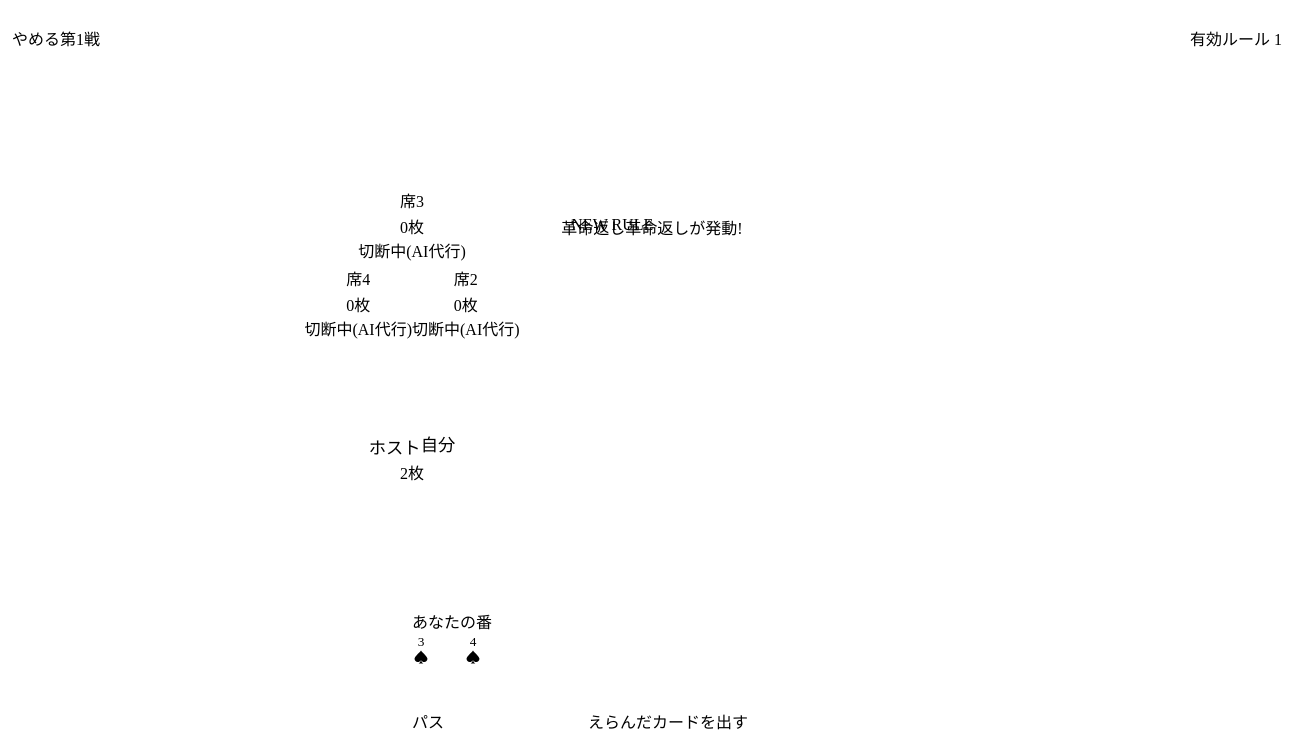
it: CX-06: 実ルール発動イベントの演出 › 新しいruleFiredを一度だけカットインし、完了後に発動の痕跡を残す
Expected: the text "革命返し" is shown, [561,215,625,239]
Expected: the text "革命返しが発動!" is shown, [625,215,743,239]
What coordinates should you click on to do the following:
click the button named "演出をとばす"
I would click on:
 (652, 372)
Its box is [12,12,1292,731].
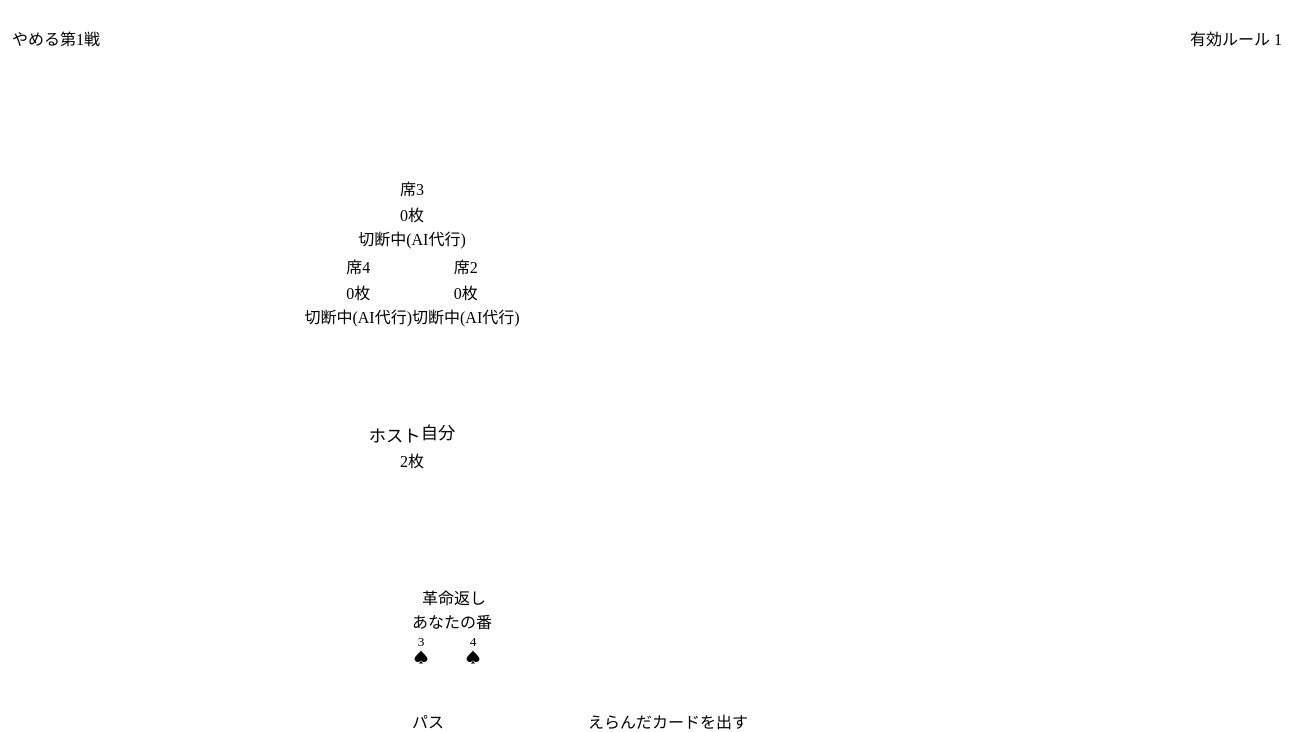
Expected: the button "革命返し" is shown, [412,585,486,609]
Expected: the button "演出をとばす" is gone
